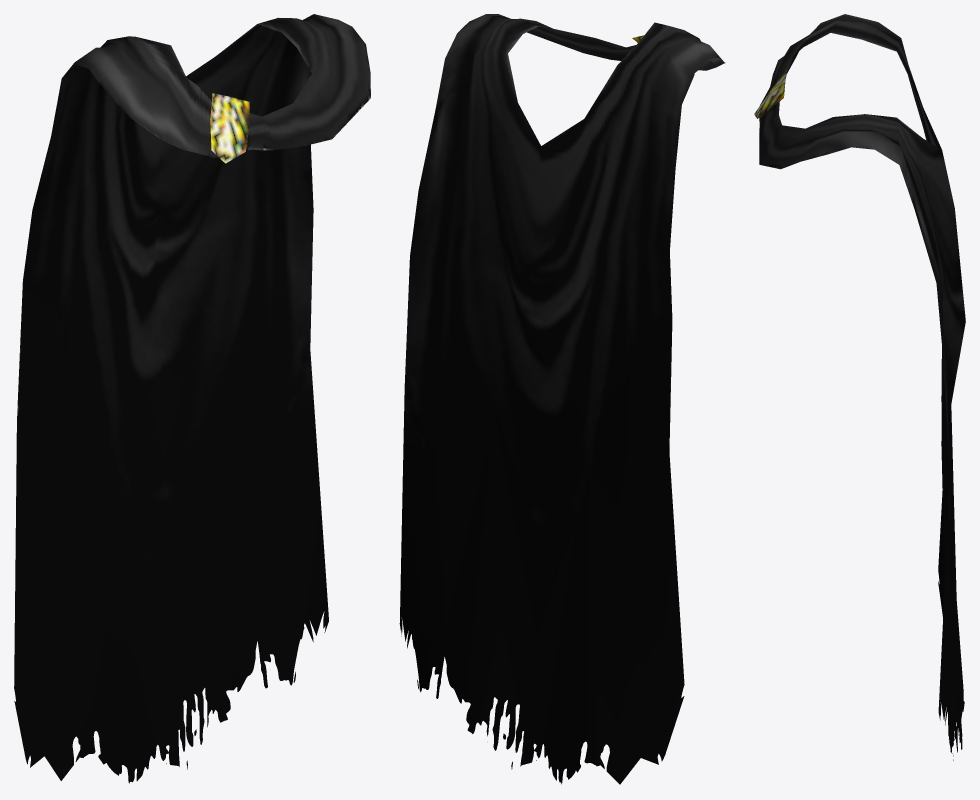
The model's file is cape_hd_hoplite.dae.
3 views of the same model, side by side, from view 1: azimuth 30°, elevation 25°; view 2: azimuth 150°, elevation 25°; view 3: azimuth 270°, elevation 25° (orthographic). The views are drawn at different scales.
Parts seen in each view (by area): view 1: Cape_Ragged; view 2: Cape_Ragged; view 3: Cape_Ragged.
Boxes of the visible parts, x1,y1,x2,y2 form: Cape_Ragged: (14,14,370,783); Cape_Ragged: (399,14,725,784); Cape_Ragged: (754,14,965,760).
Bounding box in the file's own units: 1.19 × 2.93 × 0.7928.
